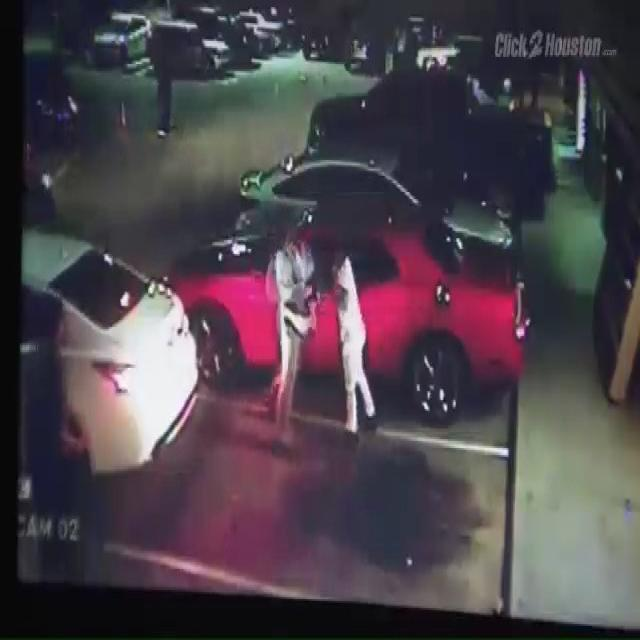fight: (259, 196, 385, 485)
